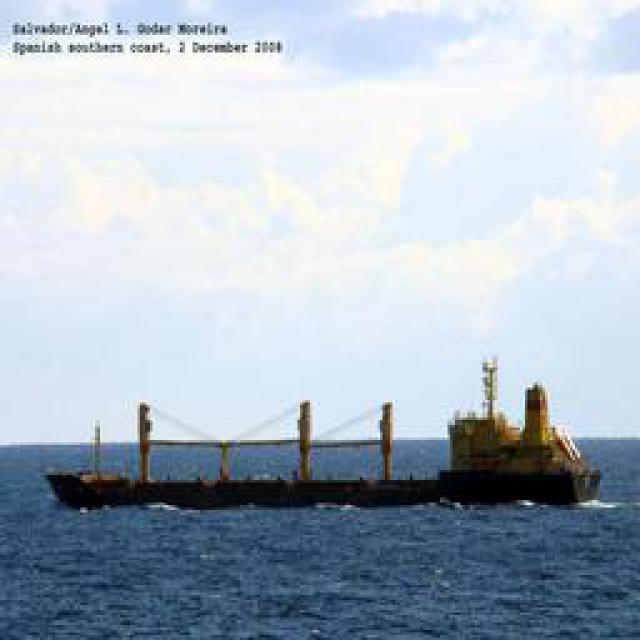Ship: (446, 379, 604, 509)
